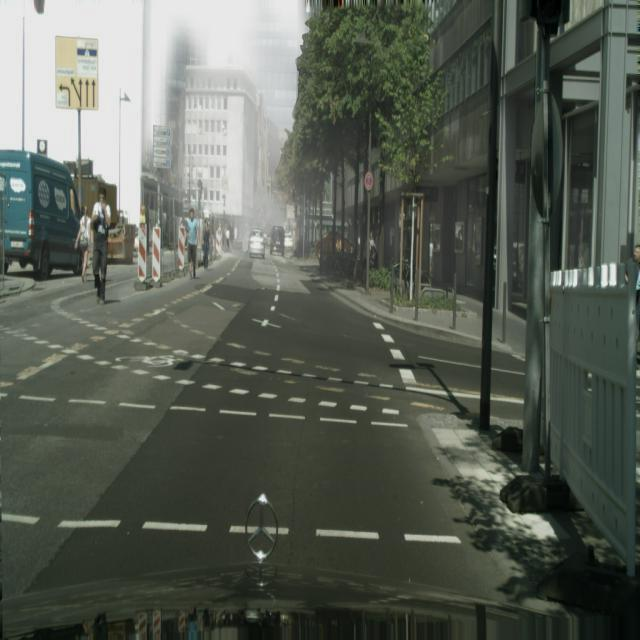motorcycle: (0, 149, 82, 281)
person: (90, 189, 110, 304), (75, 205, 91, 282), (186, 208, 198, 279), (202, 219, 210, 270)
truck: (248, 229, 266, 259), (270, 226, 285, 254)
